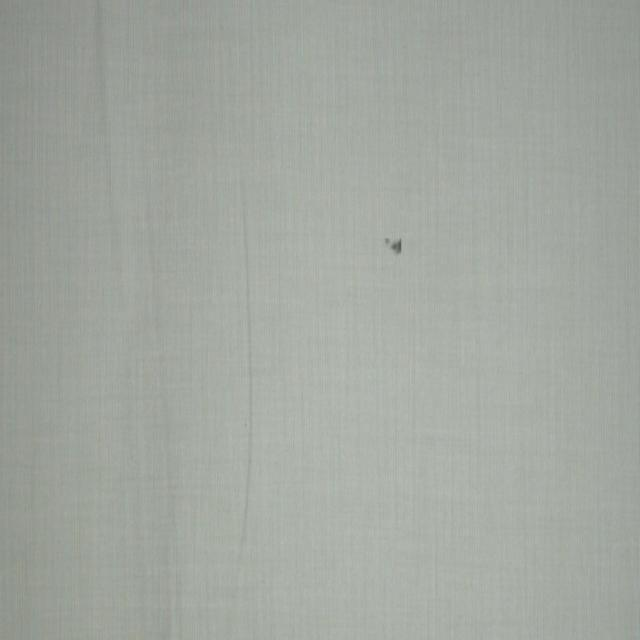dirty: (382, 234, 403, 254)
